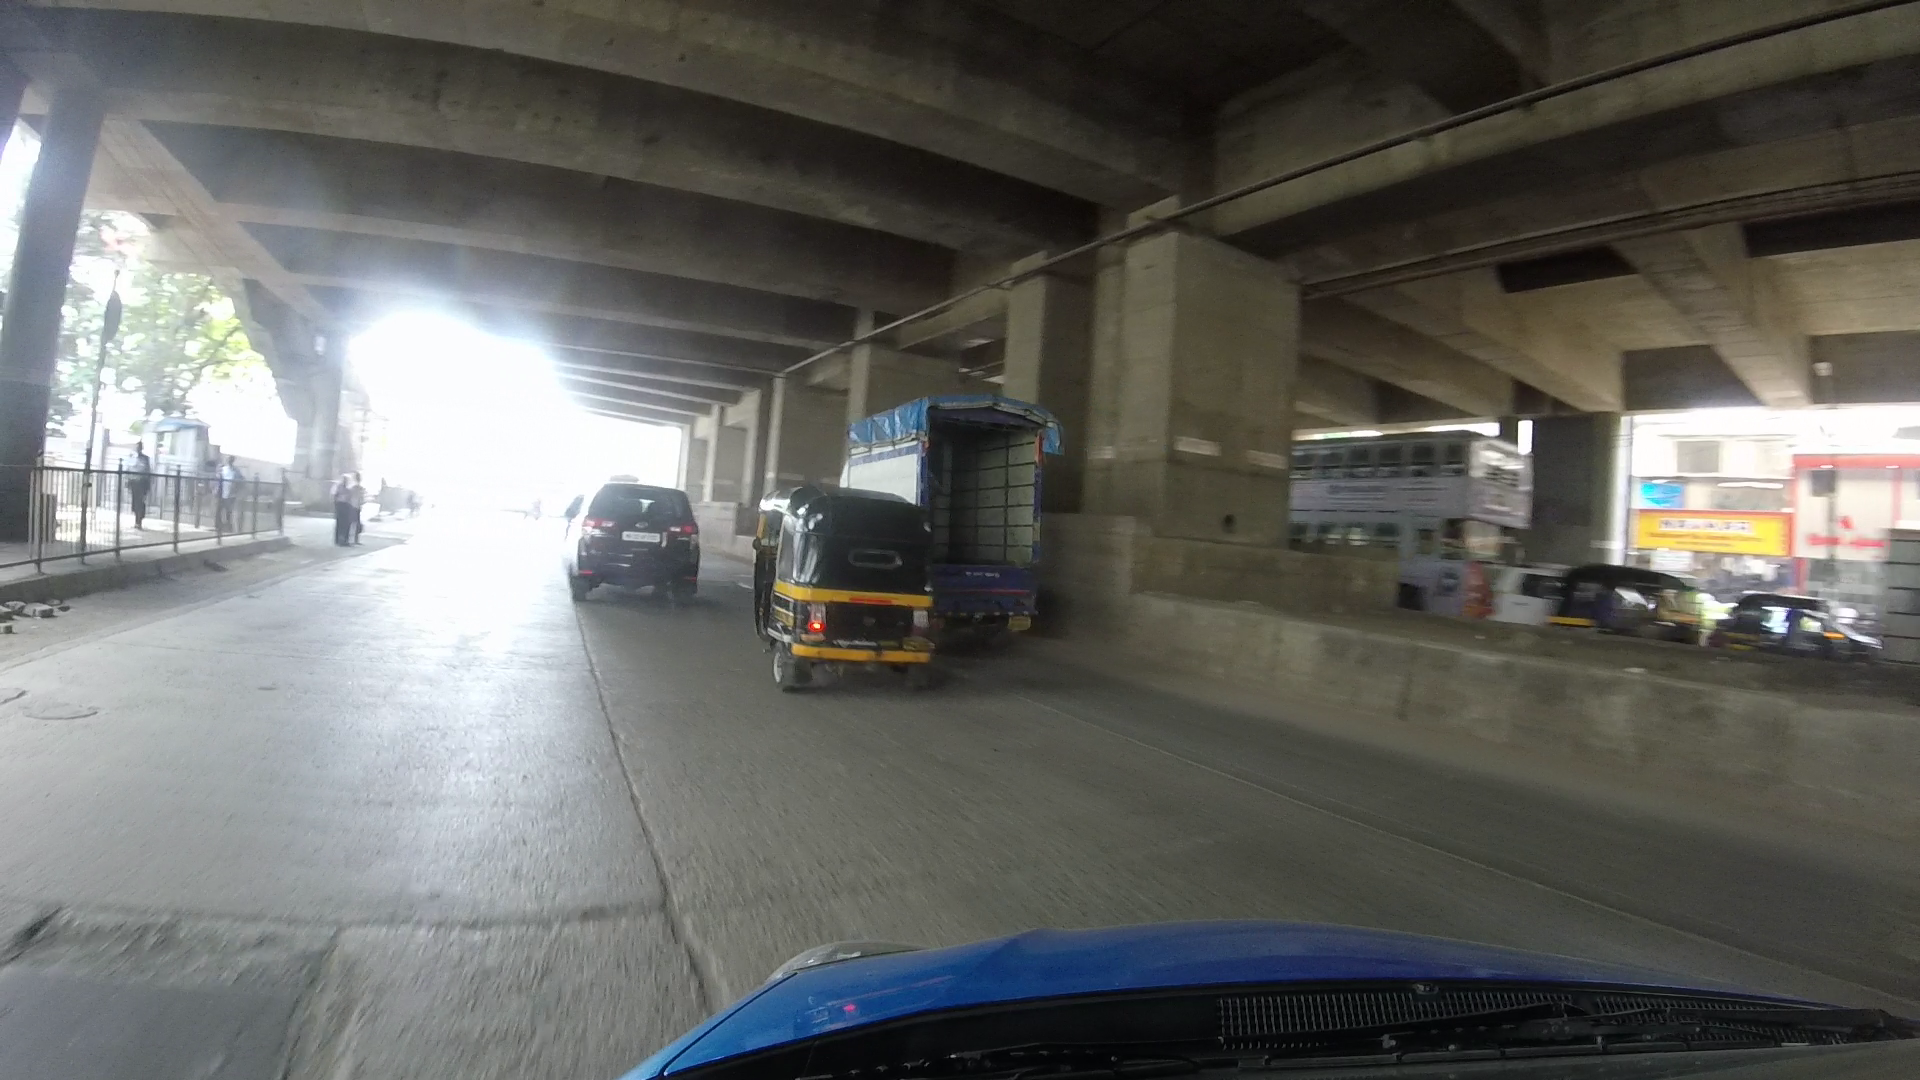car: (572, 473, 699, 607)
rickshaw: (742, 491, 955, 696)
truck: (822, 400, 1048, 636)
